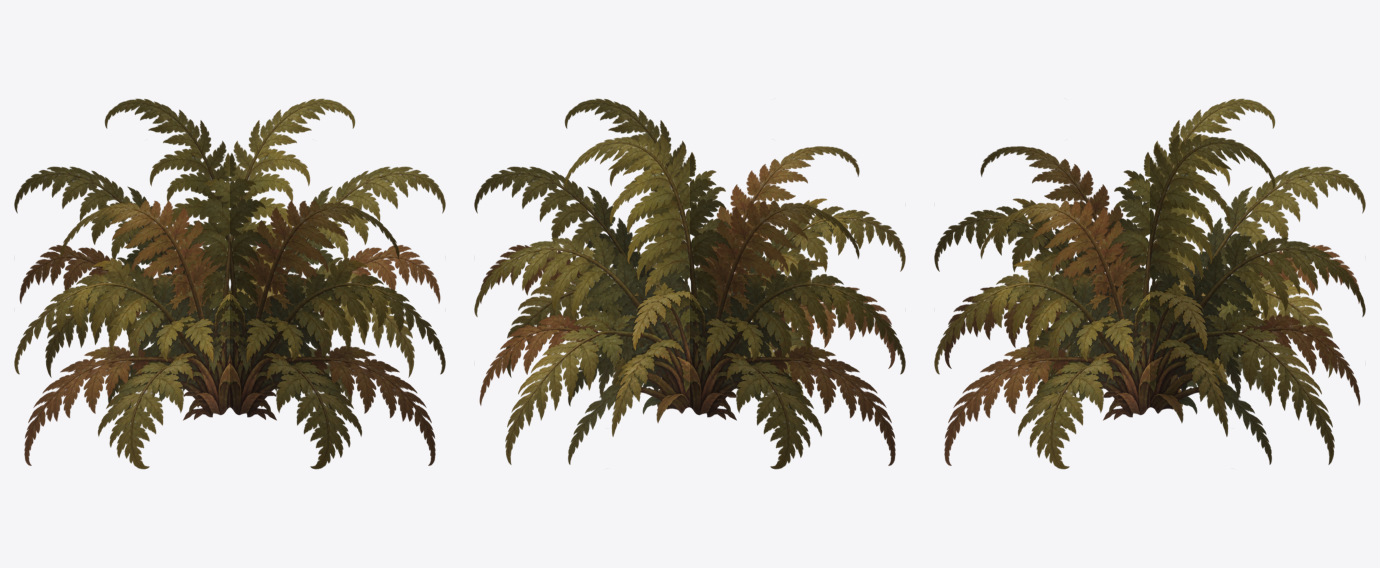
Rendered from v4-woodland-camp-scatter-fern.glb.
3 views of the same model, side by side, from view 1: azimuth 30°, elevation 25°; view 2: azimuth 150°, elevation 25°; view 3: azimuth 270°, elevation 25° (orthographic).
Visible parts, largest first — view 1: v4-woodland-camp-scatter-fern; view 2: v4-woodland-camp-scatter-fern; view 3: v4-woodland-camp-scatter-fern.
Boxes of the visible parts, bbox=[...] form: v4-woodland-camp-scatter-fern: bbox=[14, 98, 445, 469]; v4-woodland-camp-scatter-fern: bbox=[474, 98, 905, 469]; v4-woodland-camp-scatter-fern: bbox=[934, 98, 1365, 469].
Bounding box in the file's own units: 0.9602 × 0.7 × 0.8316.
Materials: 1 (1 with a texture image).
